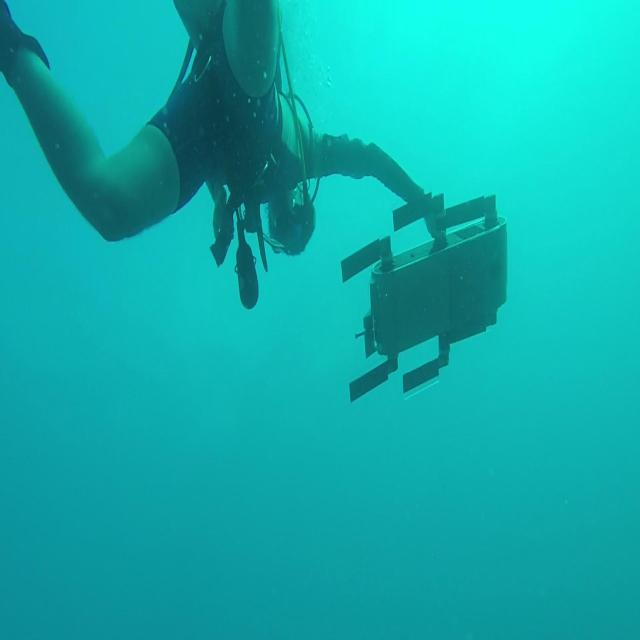human: (1, 0, 438, 311)
